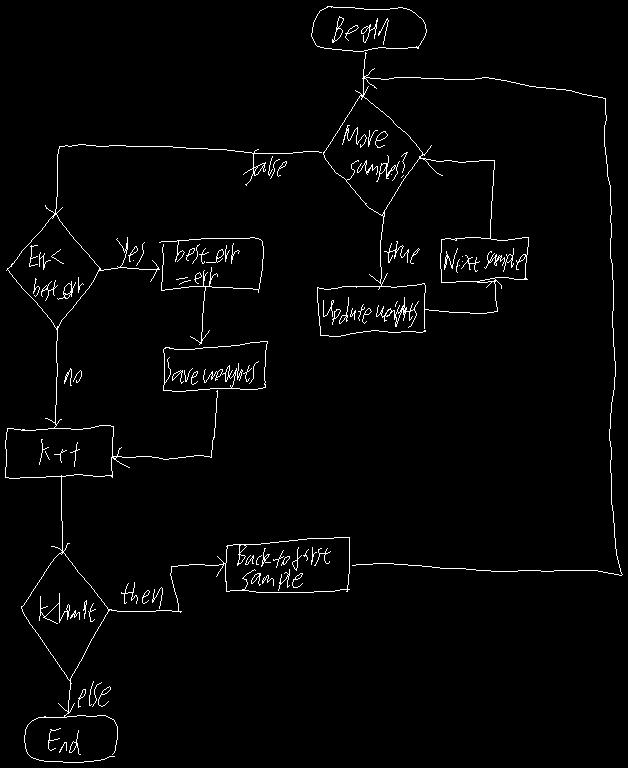arrow: (352, 68, 622, 575), (45, 144, 321, 218), (112, 390, 217, 467), (419, 145, 494, 238), (109, 556, 224, 612), (424, 279, 501, 313), (45, 326, 61, 428), (51, 475, 69, 554), (369, 212, 387, 289), (98, 260, 159, 281), (190, 286, 209, 344), (355, 52, 368, 99), (58, 679, 74, 716)
decision: (323, 95, 424, 216), (21, 549, 109, 683), (6, 212, 101, 330)
process: (225, 537, 349, 592), (317, 283, 425, 336), (5, 425, 113, 478), (159, 237, 263, 292), (163, 341, 267, 391), (440, 237, 528, 282)
terminator: (311, 6, 426, 51), (24, 715, 117, 762)
text: (237, 544, 330, 590), (342, 125, 407, 181), (29, 245, 83, 300), (165, 357, 258, 388), (175, 240, 239, 285), (323, 297, 418, 327), (444, 248, 525, 272), (39, 593, 95, 623), (332, 16, 388, 44), (243, 149, 286, 185), (39, 439, 79, 466), (121, 582, 162, 608), (116, 237, 144, 267), (78, 681, 110, 707), (48, 728, 80, 754), (384, 241, 419, 263), (64, 368, 81, 385)
